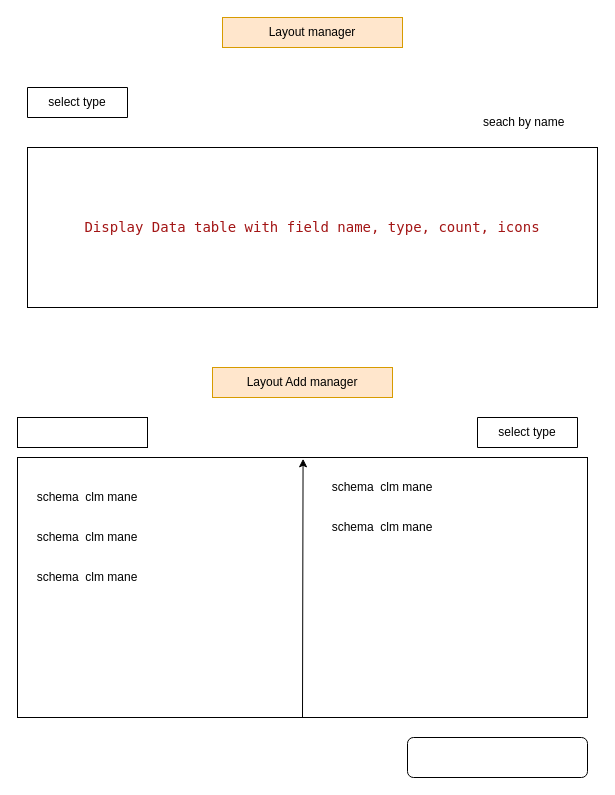
This 615x795 diagram has some shape labels left out. Each missing label, with the centre of its shape:
layout name inpput: (x=82, y=432)
save: (x=497, y=757)
